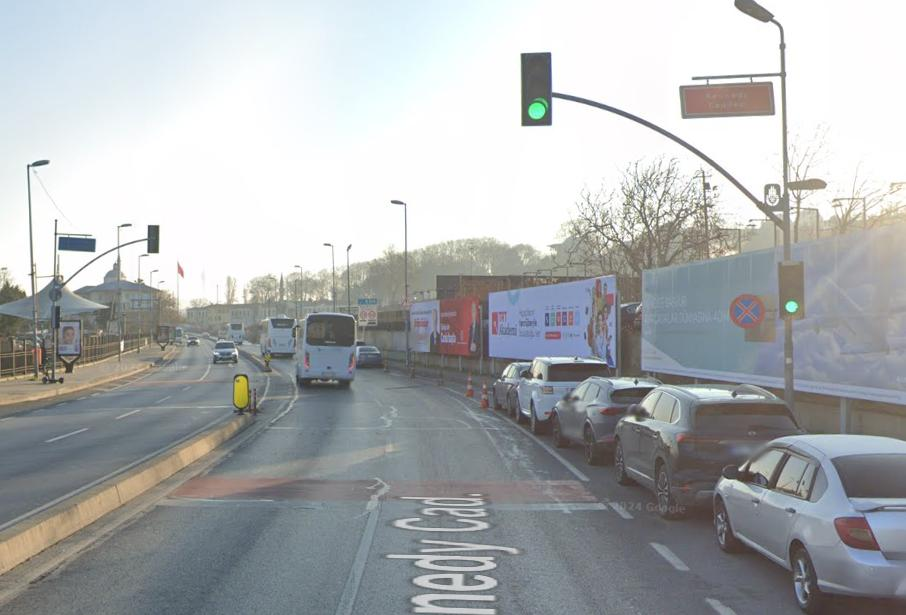greenlight: (522, 55, 551, 123), (779, 264, 804, 317)
